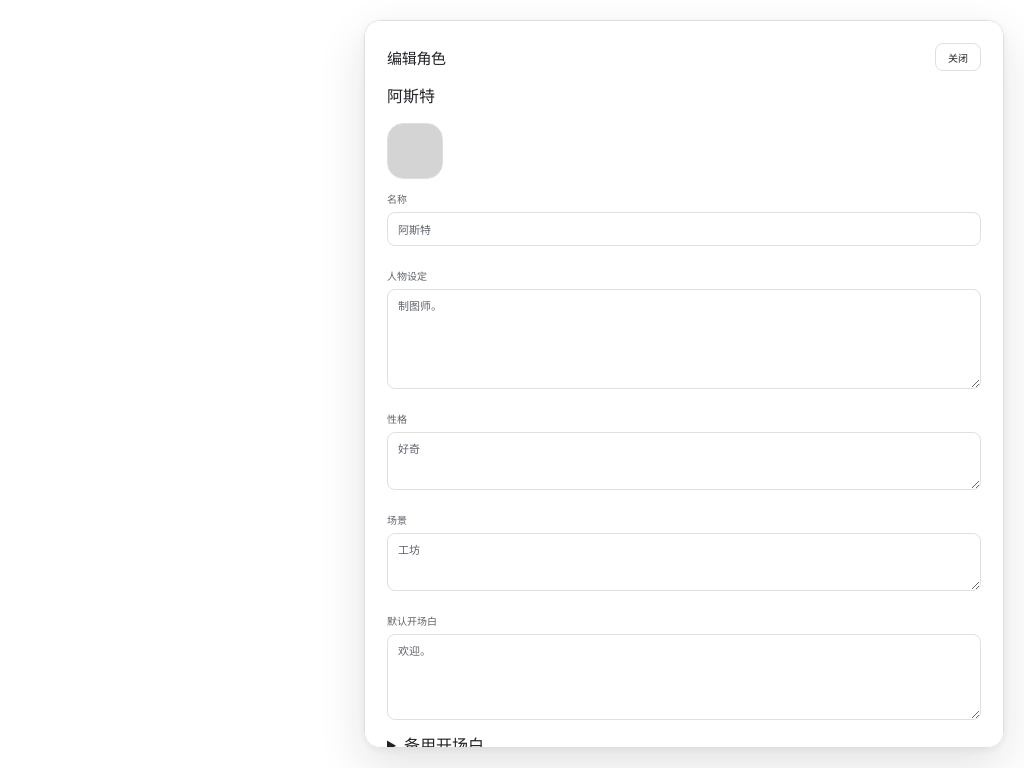
Test case: loads the raw card, edits fields and saves through the native PUT with extensions preserved
Replace the text in the field labelled "名称" with "新名字" at (684, 229), box [387,212,981,246]
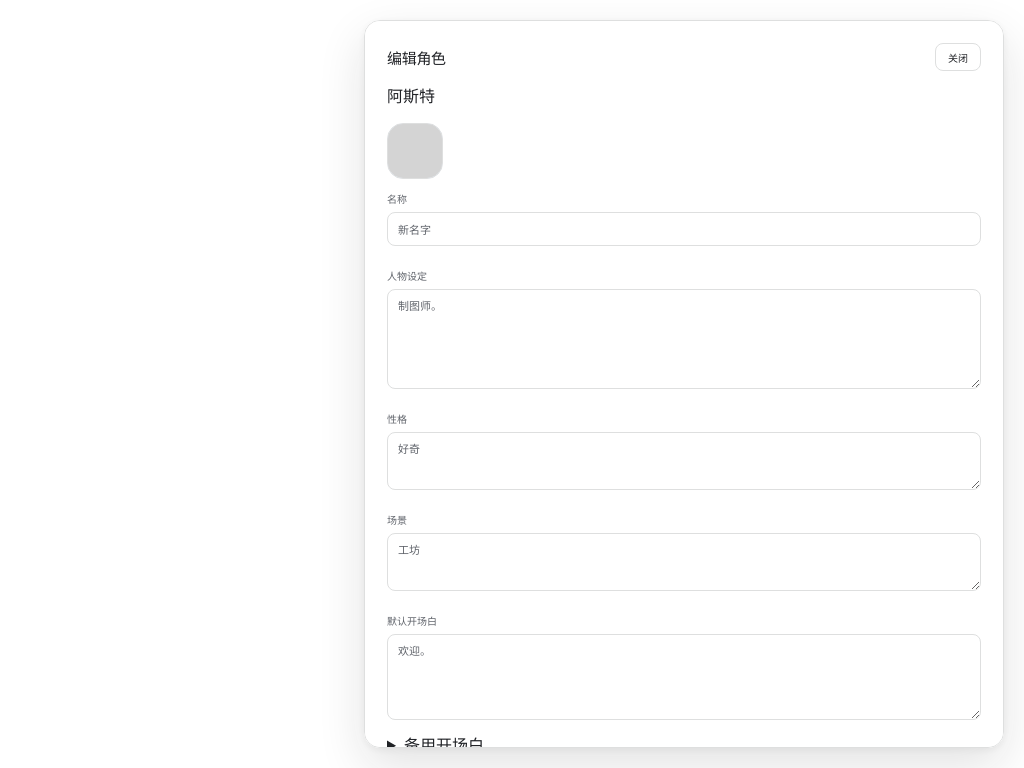
Replace the text in the text box labelled "人物设定" with "改过的设定。" at (684, 339), box [387,289,981,389]
(page scrolled)
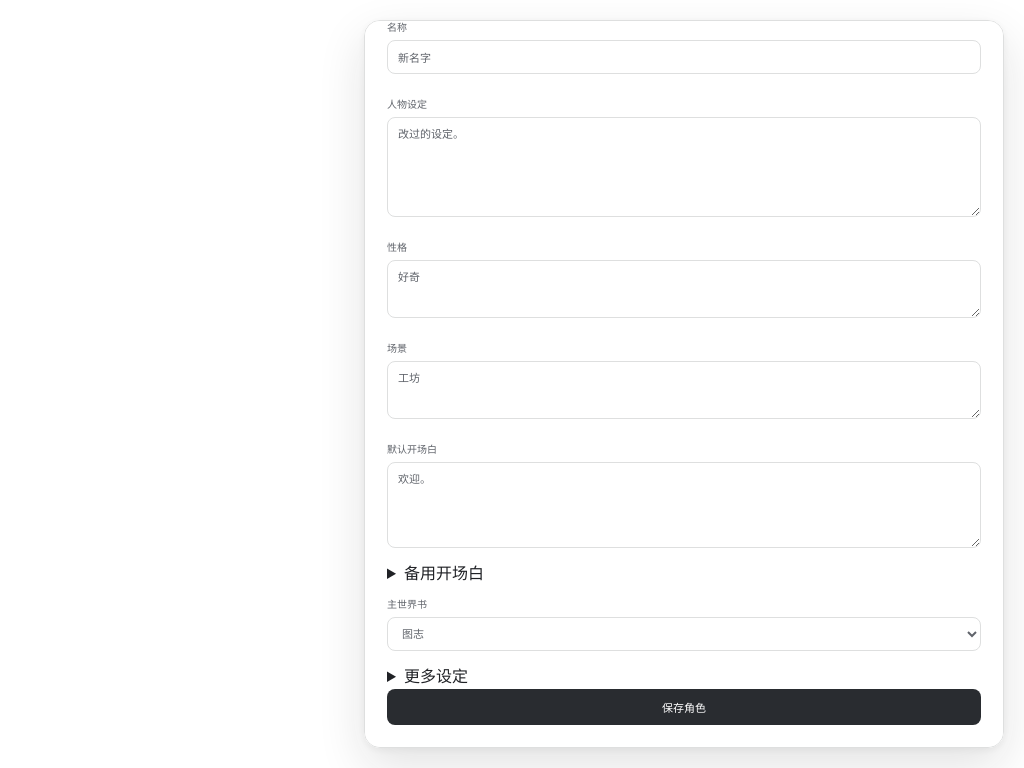
Select "星图" in the dropdown labelled "主世界书" at (684, 634), box [387,617,981,651]
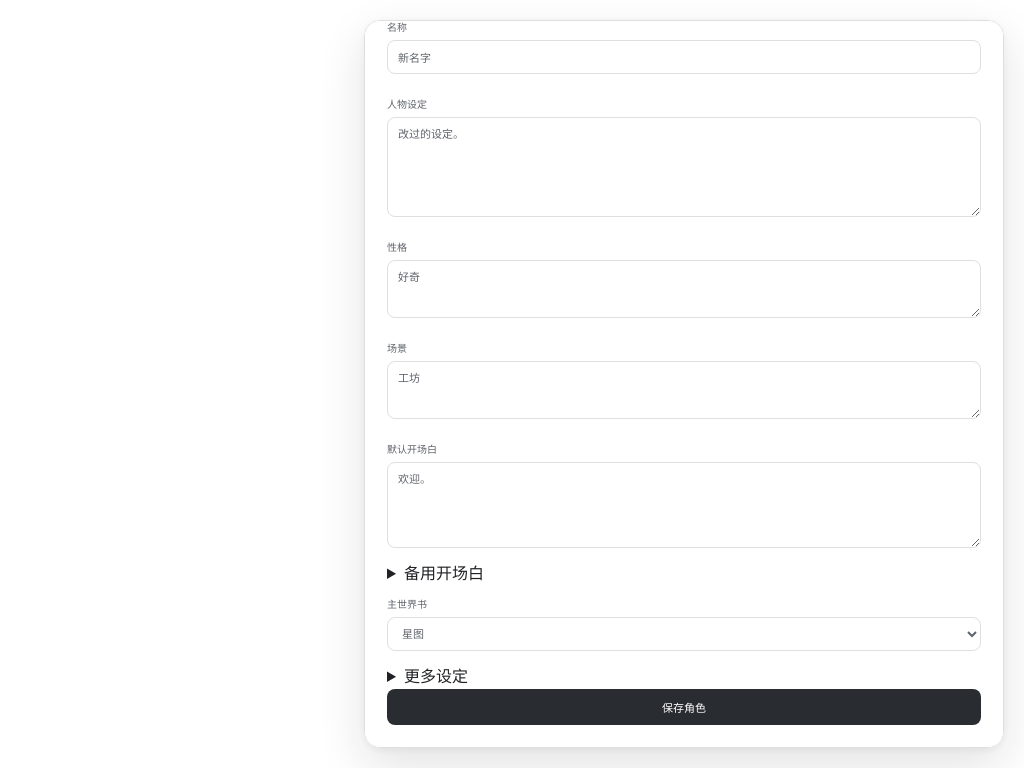
Click the button "保存角色" at (684, 707), box [387,689,981,725]
(page scrolled)
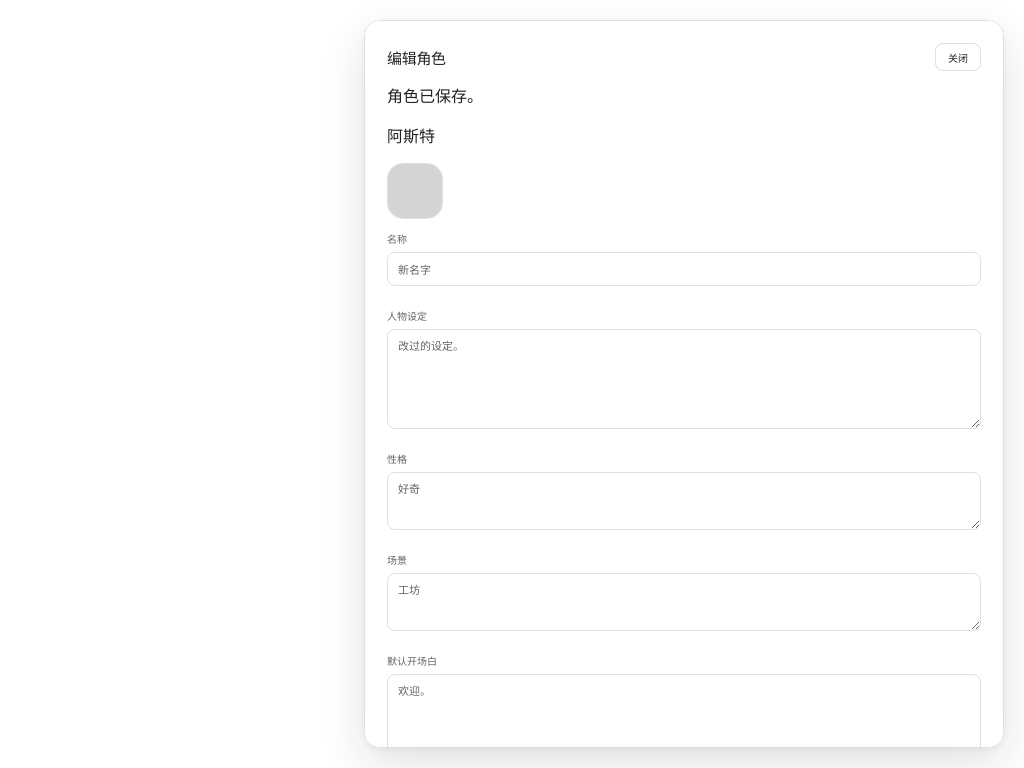
Expected: the text "角色已保存。" is shown, [387,86,483,106]
